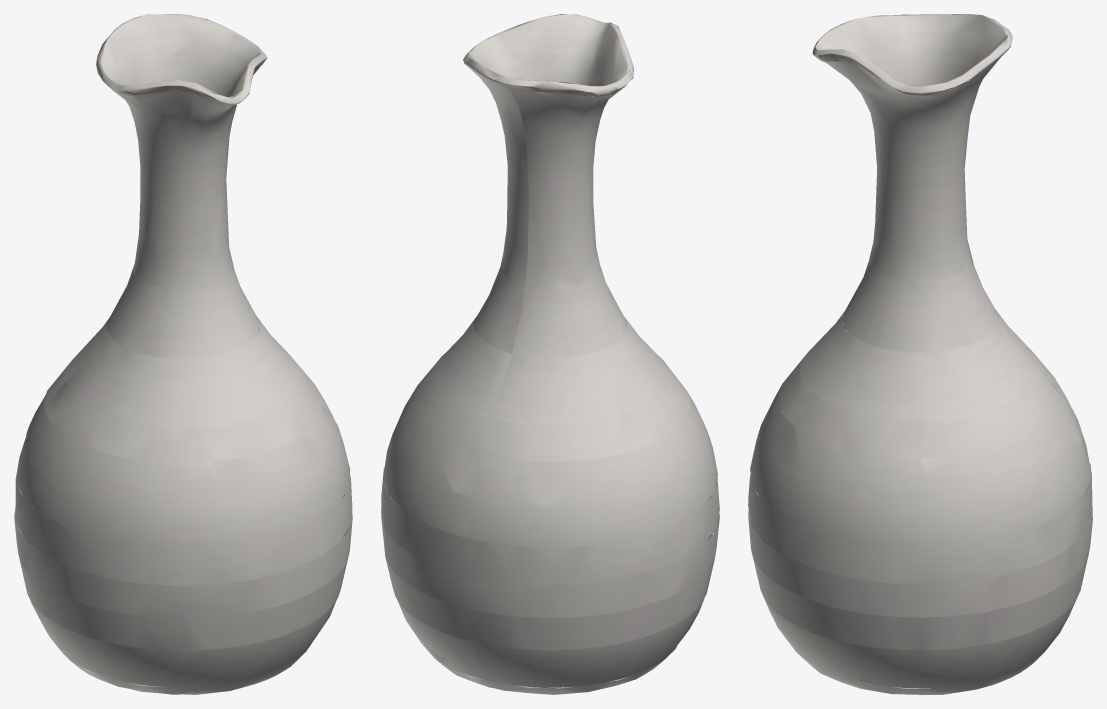
File: ceramic_vase_01.glb
3 renders of one model, left to right at view 1: azimuth 30°, elevation 25°; view 2: azimuth 150°, elevation 25°; view 3: azimuth 270°, elevation 25°, orthographic.
Parts seen in each view (by area): view 1: ceramic_vase_01; view 2: ceramic_vase_01; view 3: ceramic_vase_01.
Part boxes in pixels (<box>): ceramic_vase_01: <box>14,14,352,694</box>; ceramic_vase_01: <box>381,14,719,694</box>; ceramic_vase_01: <box>748,14,1092,694</box>.
Size of the model in its own units: 0.2035 by 0.4003 by 0.2036.
1 material, 1 textured.
